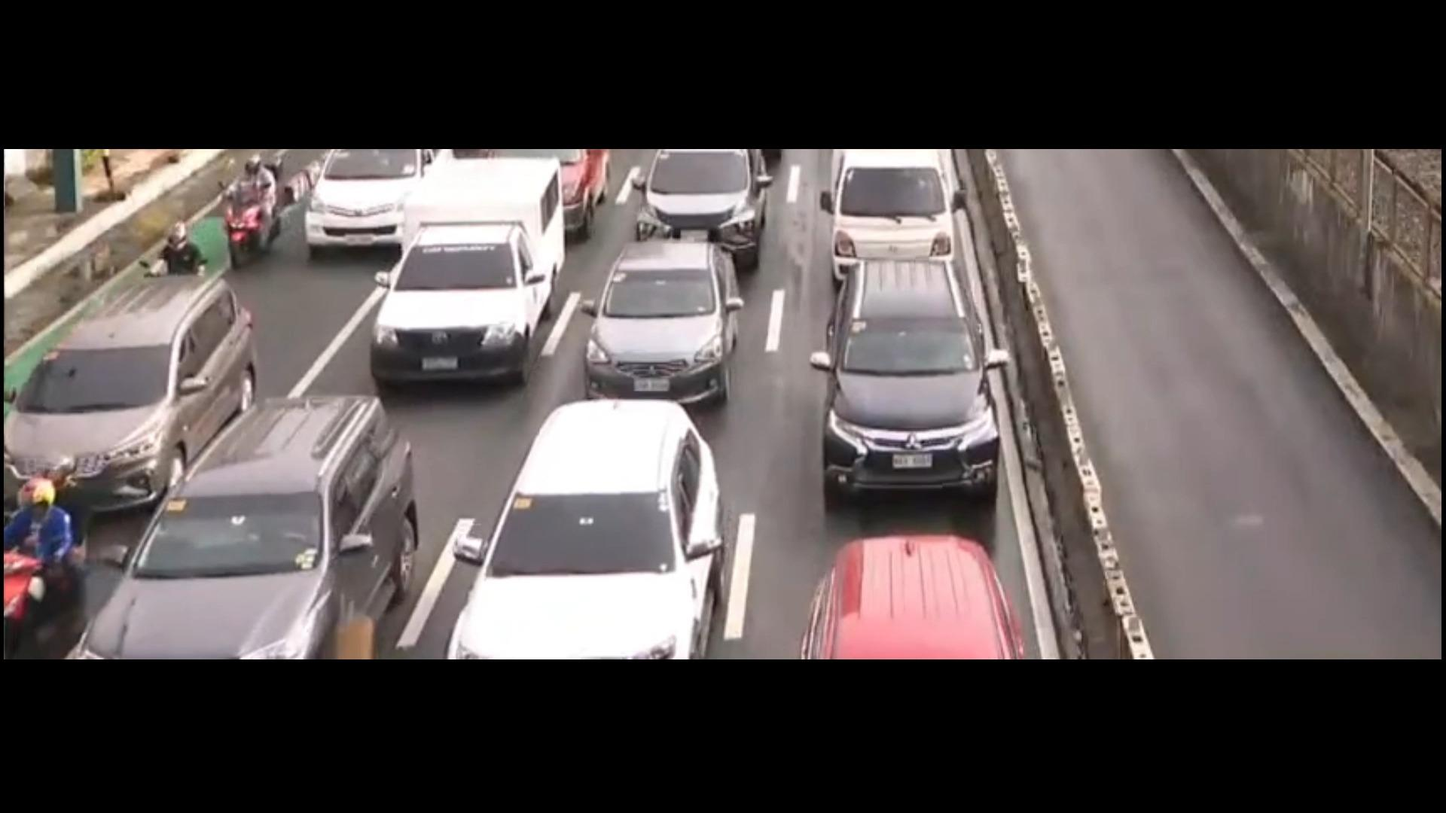Motorcycle: (0, 492, 96, 631), (224, 153, 279, 285), (138, 230, 219, 276)
Multicab: (359, 153, 577, 393), (804, 149, 966, 283)
SUV: (81, 397, 430, 654), (427, 413, 748, 666), (793, 234, 1008, 505), (0, 277, 255, 505), (797, 518, 1022, 658), (635, 147, 797, 252), (300, 143, 441, 254)
Sedan: (585, 224, 748, 420)
